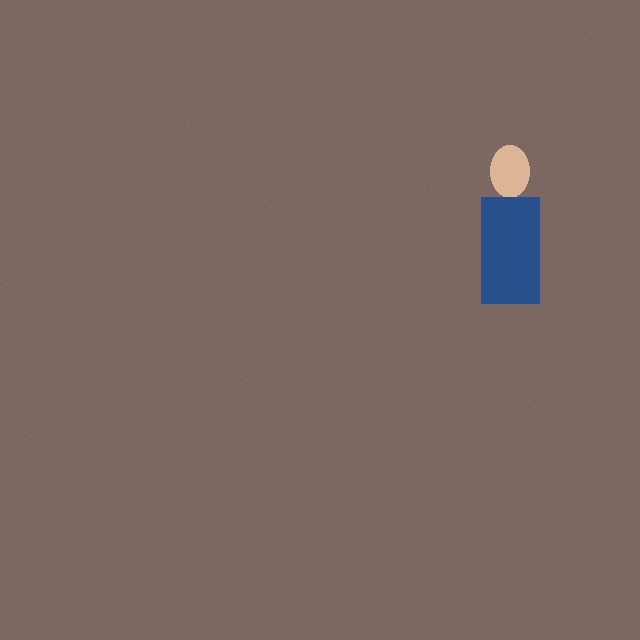person: (452, 145, 568, 303)
